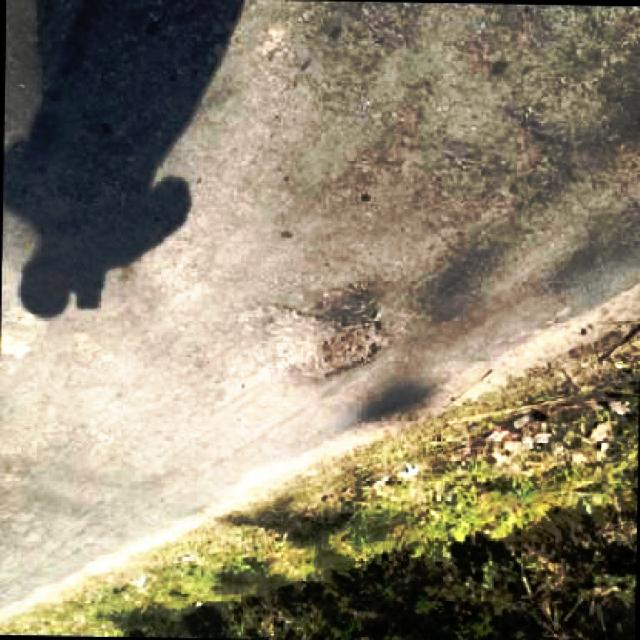pothole: (252, 299, 386, 383)
